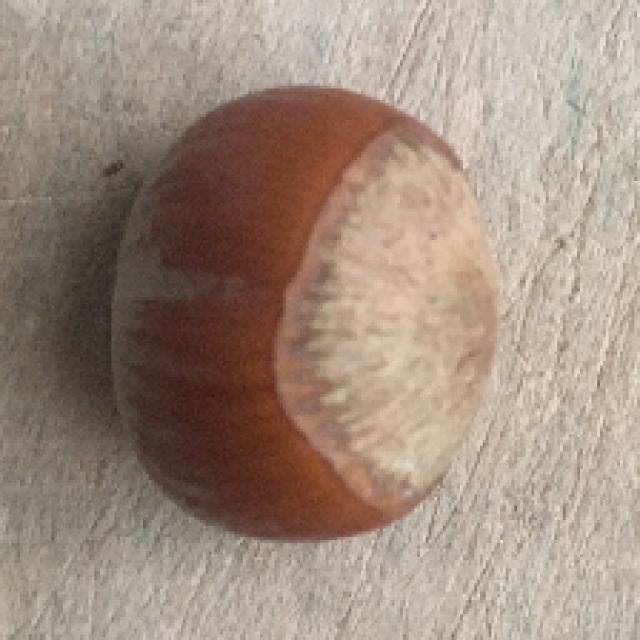qualityHazelnut: (114, 79, 506, 546)
